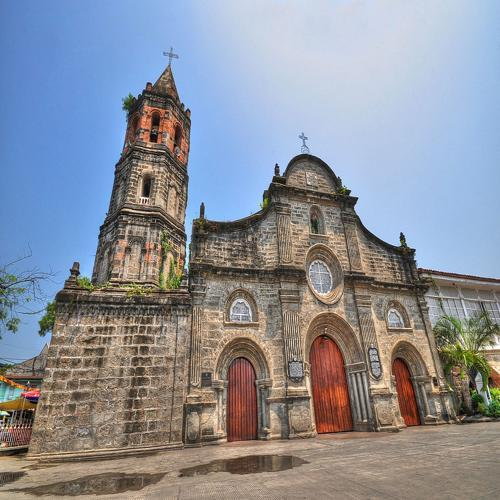Barasoain Church: (42, 38, 455, 450)
